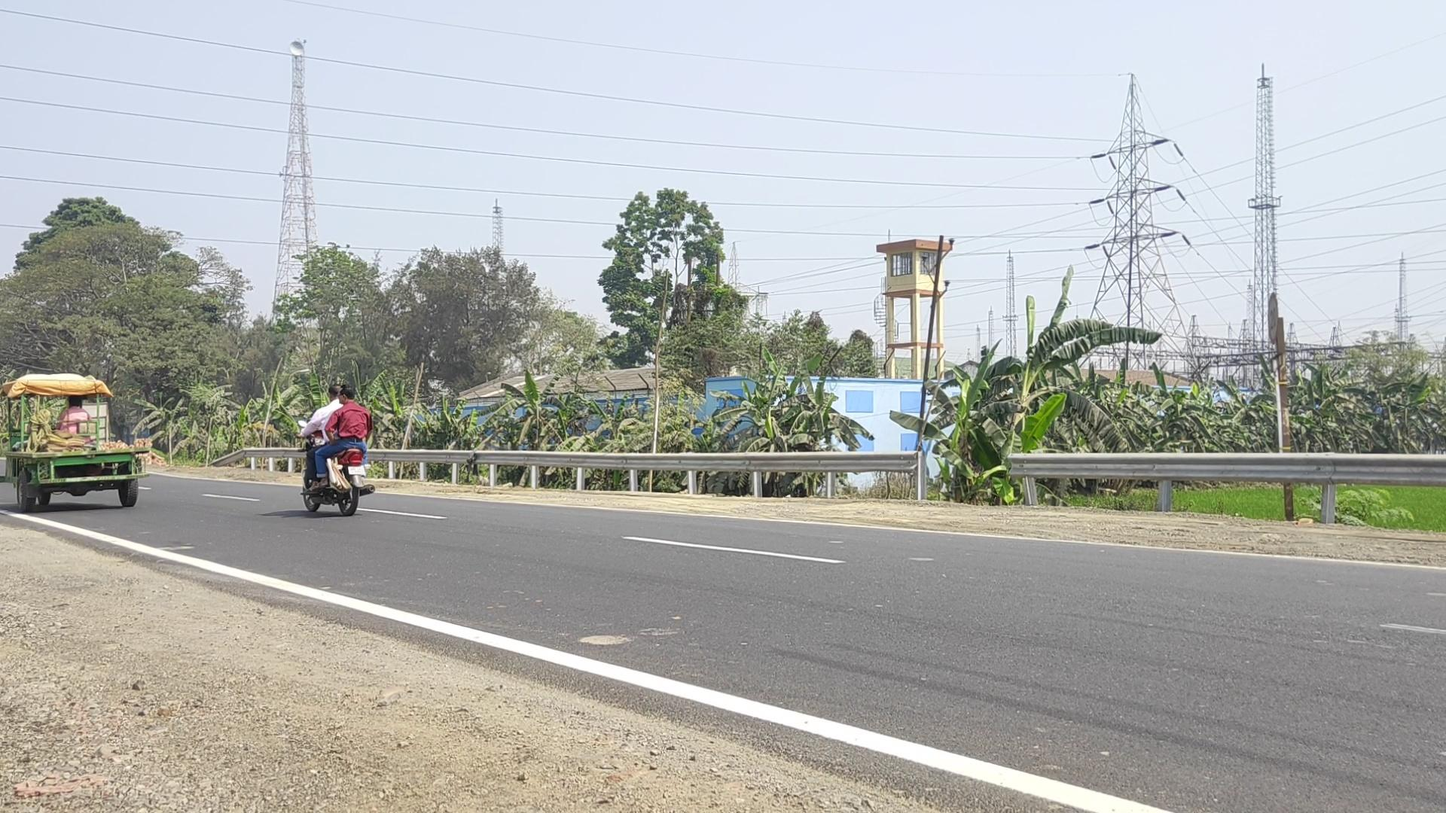bike: (296, 385, 376, 517)
